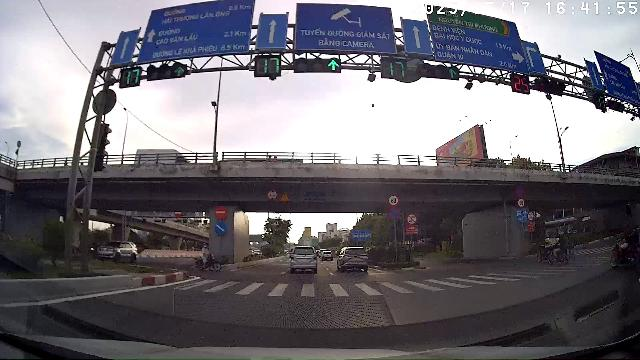127-toc-do-toi-da-50: (517, 198, 526, 208)
127-toc-do-toi-da-60: (387, 194, 400, 207)
